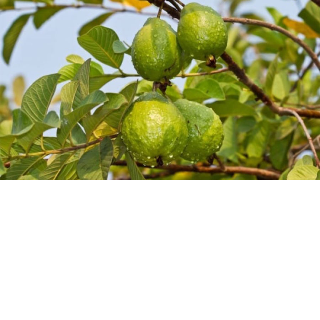oi: (121, 87, 191, 172), (130, 14, 186, 84), (171, 1, 228, 68)
